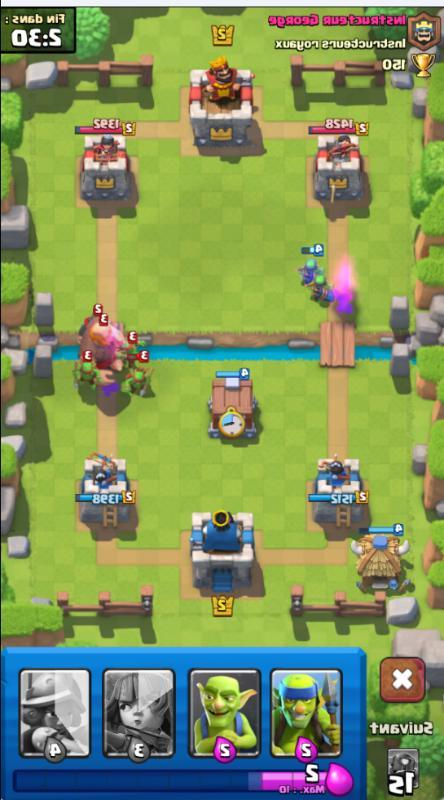enemy_giant: (74, 313, 128, 392)
enemy_spear_goblins: (122, 364, 159, 399), (70, 352, 97, 390)
player_goblin_cage: (202, 366, 266, 447)
player_goblin_hut: (346, 526, 414, 597)
player_spear_goblins: (295, 243, 328, 289), (306, 273, 336, 313)
